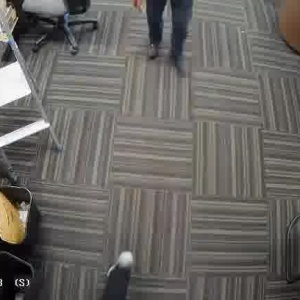person: (141, 0, 194, 73)
